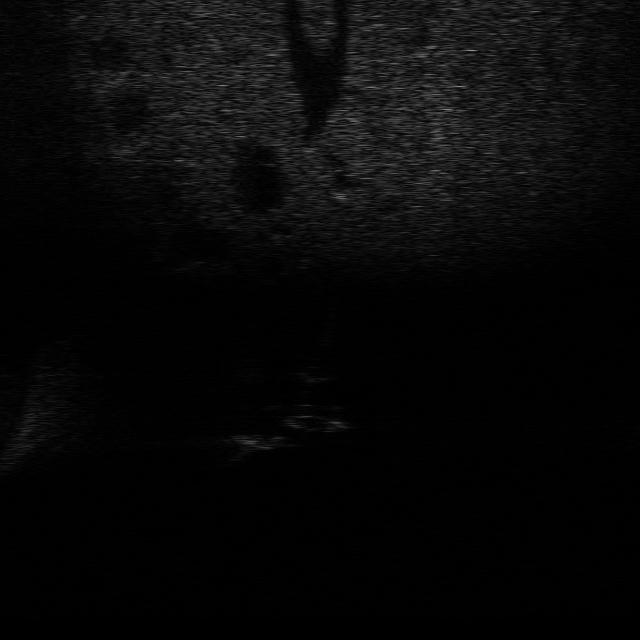ball: (289, 358, 340, 388)
square cage: (211, 429, 291, 461)
tyre: (275, 408, 353, 436)
